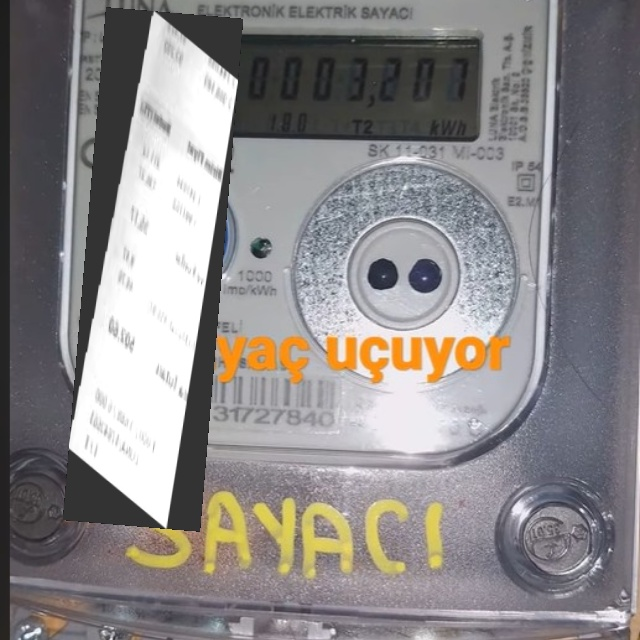electricity-bill: (62, 6, 242, 531)
